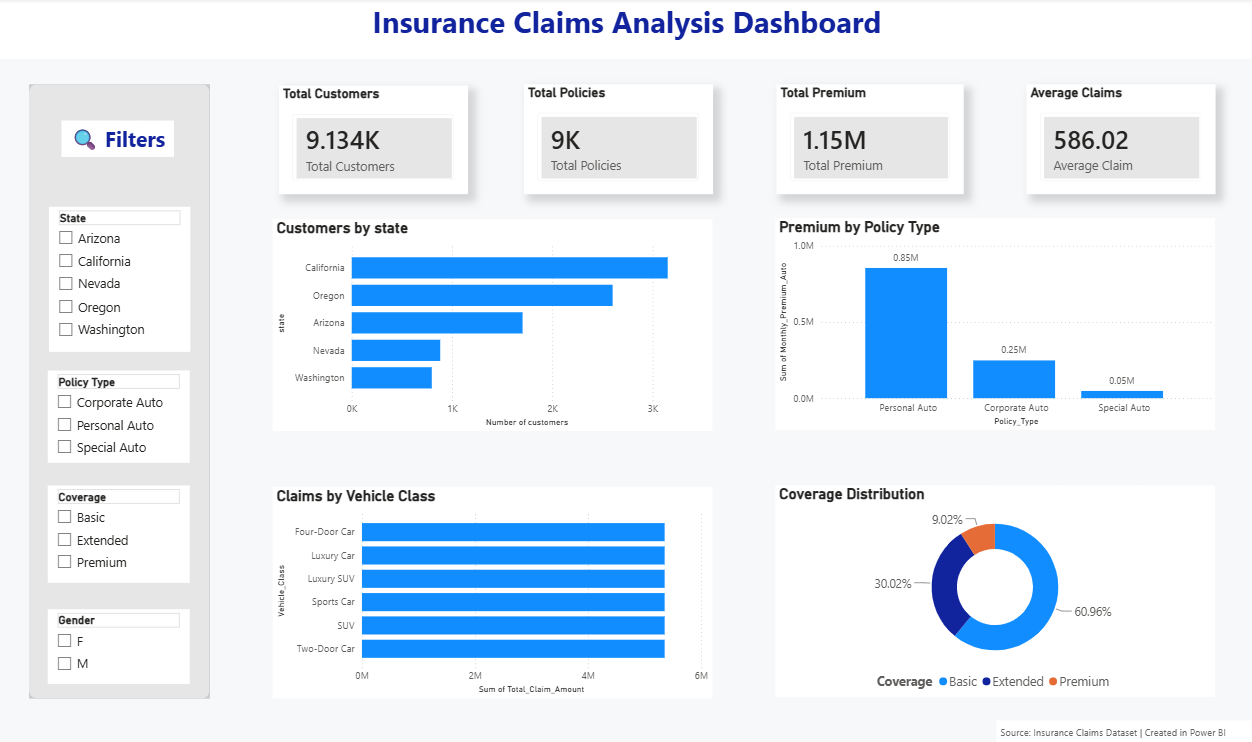

Layout of this report page (visuals, bound fields, positions):
{"tool":"powerbi","page":{"name":"Page 1","canvas":[1600,950],"ordinal":0},"visuals":[{"type":"cardVisual","title":"Total Customers","fields":{"Data":["Customers.Total Customers"]},"box":[357.2,111.3,240.4,138.8],"z":0},{"type":"cardVisual","title":"Total Premium","fields":{"Data":["policies.Total Premium"]},"box":[989.6,110.4,238.8,140.4],"z":1000},{"type":"cardVisual","title":"Average Claims","fields":{"Data":["claims.Average Claim"]},"box":[1308.5,110.4,240.4,140.4],"z":2000},{"type":"cardVisual","title":"Total Policies","fields":{"Data":["policies.Total Policies"]},"box":[669,110.4,240.4,140.4],"z":3000},{"type":"clusteredBarChart","title":"Customers by state","fields":{"Y":["CountNonNull(Customers.customer)"],"Category":["Customers.state"]},"box":[348.5,282.4,559.9,269.4],"z":4000},{"type":"clusteredColumnChart","title":"Premium by Policy Type","fields":{"Category":["policies.Policy_Type"],"Y":["Sum(policies.Monthly_Premium_Auto)"]},"box":[989.1,280.7,559.9,269.4],"z":5000},{"type":"clusteredBarChart","title":"Claims by Vehicle Class","fields":{"Category":["policies.Vehicle_Class"],"Y":["Sum(claims.Total_Claim_Amount)"]},"box":[348.5,622.8,559.9,269.4],"z":6000},{"type":"donutChart","title":"Coverage Distribution","fields":{"Category":["policies.Coverage"],"Y":["CountNonNull(policies.Customer)"]},"box":[989.1,621.2,559.9,269.4],"z":7000},{"type":"textbox","box":[0,0,1599.8,78],"z":8000},{"type":"shape","box":[37.4,110.5,230,782.2],"z":9000},{"type":"textbox","box":[79.6,156,143.3,46.2],"z":10000},{"type":"slicer","fields":{"Values":["Customers.state"]},"box":[63.7,265.8,179.9,184.7],"z":11000},{"type":"slicer","fields":{"Values":["policies.Policy_Type"]},"box":[61.3,474.4,180.7,117.8],"z":12000},{"type":"slicer","fields":{"Values":["policies.Coverage"]},"box":[61.3,621.2,180.7,124.2],"z":13000},{"type":"slicer","fields":{"Values":["Customers.gender"]},"box":[61.3,777.7,180.7,95.2],"z":14000},{"type":"textbox","box":[1269.8,919.7,330.8,30.7],"z":15000}]}

Visuals, with their boxes in screenshot pixels (x1, y1, x2, y2), scaled from the page's 1600x950 canvas onto the 1252x742 screenshot:
"Total Customers" cardVisual: rect(280, 87, 468, 195)
"Total Premium" cardVisual: rect(774, 86, 961, 196)
"Average Claims" cardVisual: rect(1024, 86, 1212, 196)
"Total Policies" cardVisual: rect(523, 86, 712, 196)
"Customers by state" clusteredBarChart: rect(273, 221, 711, 431)
"Premium by Policy Type" clusteredColumnChart: rect(774, 219, 1212, 430)
"Claims by Vehicle Class" clusteredBarChart: rect(273, 486, 711, 697)
"Coverage Distribution" donutChart: rect(774, 485, 1212, 696)
textbox: rect(0, 0, 1251, 61)
shape: rect(29, 86, 209, 697)
textbox: rect(62, 122, 174, 158)
slicer - Customers.state: rect(50, 208, 191, 352)
slicer - policies.Policy_Type: rect(48, 371, 189, 463)
slicer - policies.Coverage: rect(48, 485, 189, 582)
slicer - Customers.gender: rect(48, 607, 189, 682)
textbox: rect(994, 718, 1251, 741)
